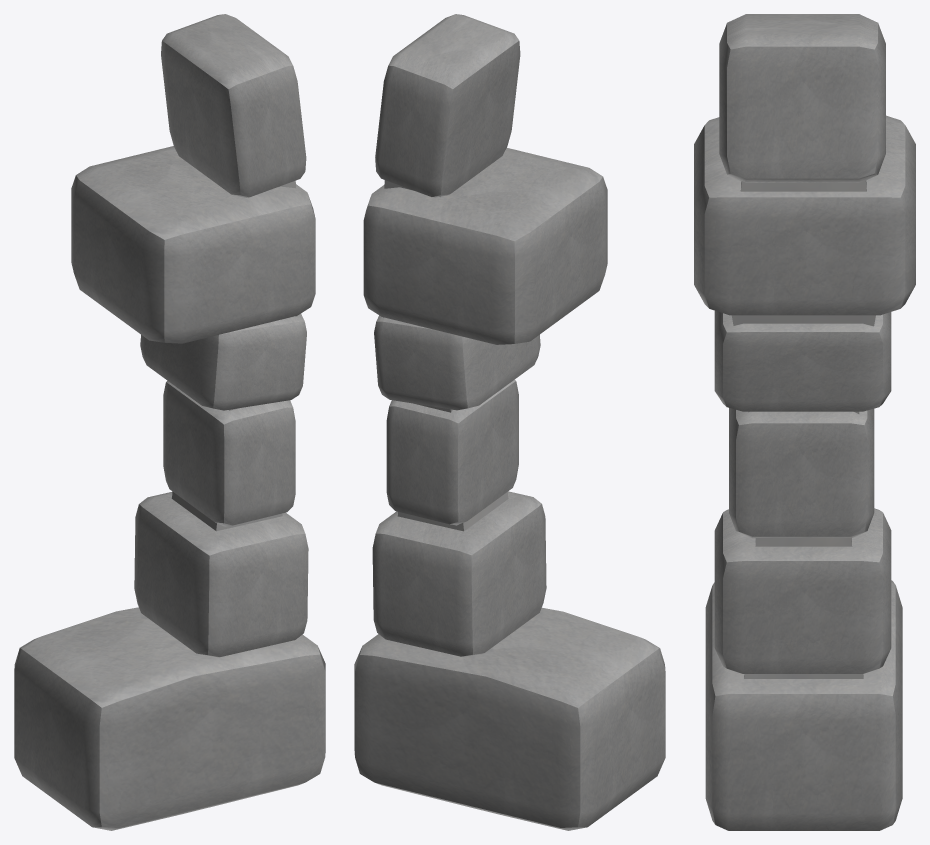
The model's file is door_frame_begin 2.obj.
The picture shows the model from 3 angles, left to right: view 1: azimuth 30°, elevation 25°; view 2: azimuth 150°, elevation 25°; view 3: azimuth 270°, elevation 25°; orthographic projection. The views are drawn at different scales.
Parts seen in each view (by area): view 1: stone7; view 2: stone7; view 3: stone7.
Boxes of the visible parts, left/top/right/bottom form: stone7: left=14, top=14, right=325, bottom=830; stone7: left=354, top=14, right=665, bottom=830; stone7: left=694, top=14, right=915, bottom=830.
Size of the model in its own units: 0.2333 by 0.6763 by 0.1715.
Materials: 1 (1 with a texture image).
